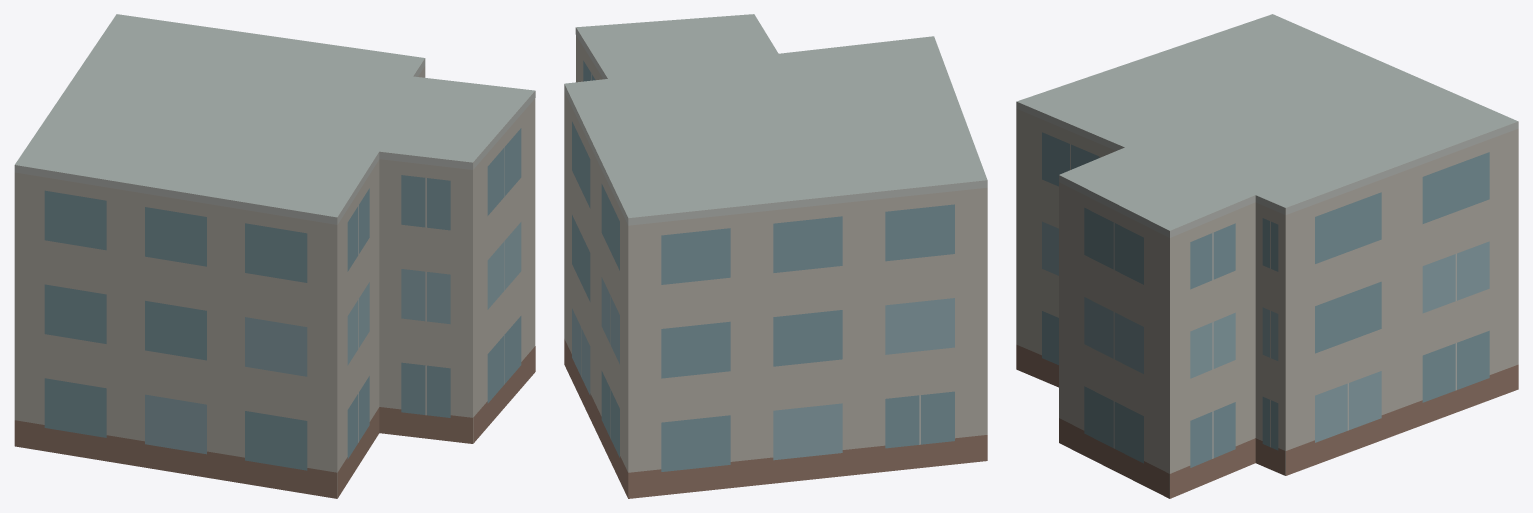
File: survey-upis-32503932.glb
The picture shows the model from 3 angles, left to right: view 1: azimuth 30°, elevation 25°; view 2: azimuth 150°, elevation 25°; view 3: azimuth 270°, elevation 25°; orthographic projection. The views are drawn at different scales.
Parts seen in each view (by area): view 1: survey-upis-32503932.tmp; view 2: survey-upis-32503932.tmp; view 3: survey-upis-32503932.tmp.
Boxes of the visible parts, bbox=[...] form: survey-upis-32503932.tmp: bbox=[14, 14, 535, 498]; survey-upis-32503932.tmp: bbox=[564, 14, 987, 498]; survey-upis-32503932.tmp: bbox=[1016, 14, 1518, 498].
Size of the model in its own units: 15.89 by 9.15 by 15.55.
